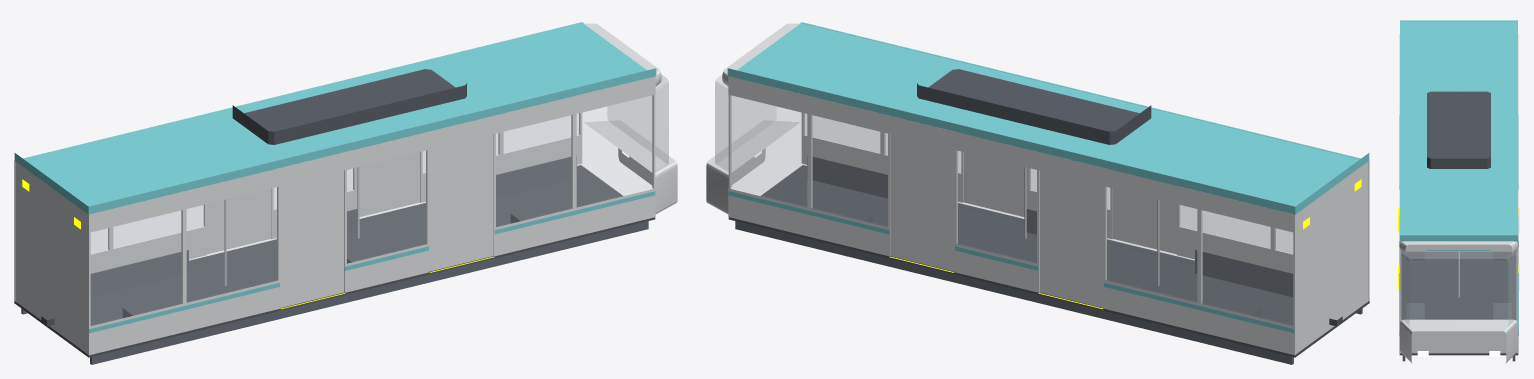
The model's file is ext_maglev_car_body_04.glb.
3 renders of one model, left to right at view 1: azimuth 30°, elevation 25°; view 2: azimuth 150°, elevation 25°; view 3: azimuth 270°, elevation 25°, orthographic. The views are drawn at different scales.
Parts seen in each view (by area): view 1: Side_Glass, Roof, Lower_Wall, Wall, Underframe, End_Wall, Roof_Pods, Door_L_02, Door_L_01, Skirts, Seats, Cab_Nose (+4 smaller); view 2: Side_Glass, Roof, Lower_Wall, Wall, Underframe, End_Wall, Roof_Pods, Door_R_02, Door_R_01, Skirts, Seats, Cab_Nose (+4 smaller); view 3: Roof, Cab_Glass, Underframe, Cab_Nose, Roof_Pods, Seats, Wall, Livery_Stripe, Headlights, Door_Sills, End_Wall.
Boxes of the visible parts, left/top/right/bottom form: Side_Glass: left=91, top=96, right=652, bottom=325; Roof: left=14, top=22, right=656, bottom=214; Lower_Wall: left=14, top=135, right=655, bottom=355; Wall: left=14, top=23, right=655, bottom=326; Underframe: left=14, top=165, right=655, bottom=357; End_Wall: left=16, top=162, right=87, bottom=353; Roof_Pods: left=232, top=69, right=466, bottom=144; Door_L_02: left=429, top=134, right=493, bottom=271; Door_L_01: left=280, top=170, right=344, bottom=307; Skirts: left=21, top=168, right=648, bottom=364; Seats: left=90, top=155, right=576, bottom=317; Cab_Nose: left=583, top=23, right=677, bottom=213; Side_Glass: left=731, top=96, right=1292, bottom=325; Roof: left=727, top=22, right=1369, bottom=214; Lower_Wall: left=728, top=135, right=1369, bottom=355; Wall: left=728, top=23, right=1369, bottom=326; Underframe: left=728, top=165, right=1369, bottom=357; End_Wall: left=1296, top=162, right=1367, bottom=353; Roof_Pods: left=917, top=69, right=1151, bottom=144; Door_R_02: left=890, top=134, right=954, bottom=271; Door_R_01: left=1039, top=170, right=1103, bottom=307; Skirts: left=735, top=168, right=1362, bottom=364; Seats: left=807, top=155, right=1293, bottom=317; Cab_Nose: left=706, top=23, right=800, bottom=213; Roof: left=1400, top=20, right=1517, bottom=241; Cab_Glass: left=1400, top=251, right=1517, bottom=325; Underframe: left=1399, top=251, right=1518, bottom=355; Cab_Nose: left=1400, top=241, right=1517, bottom=363; Roof_Pods: left=1427, top=91, right=1490, bottom=168; Seats: left=1406, top=251, right=1511, bottom=319; Wall: left=1399, top=34, right=1518, bottom=329; Livery_Stripe: left=1399, top=115, right=1518, bottom=335; Headlights: left=1417, top=351, right=1500, bottom=356; Door_Sills: left=1398, top=207, right=1519, bottom=290; End_Wall: left=1402, top=21, right=1515, bottom=21.
Bounding box in the file's own units: 12.16 × 3.34 × 2.66.
